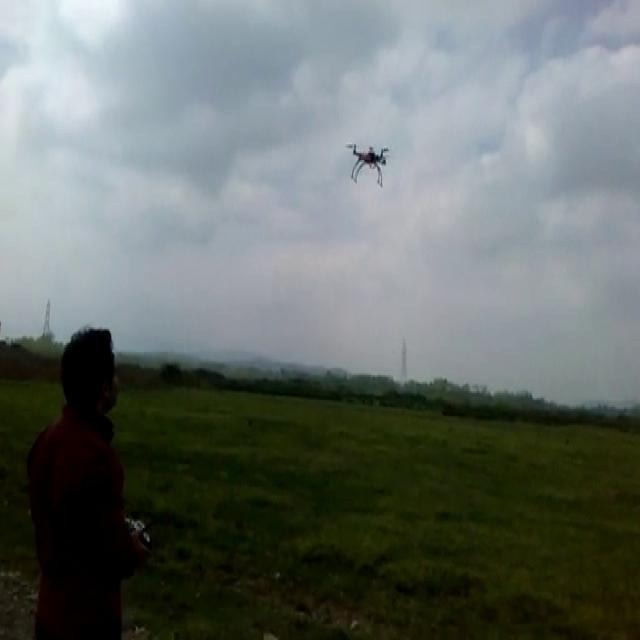drone: (345, 137, 391, 187)
